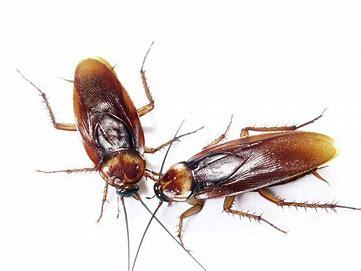cockroach: (15, 23, 164, 248), (157, 124, 346, 220)
